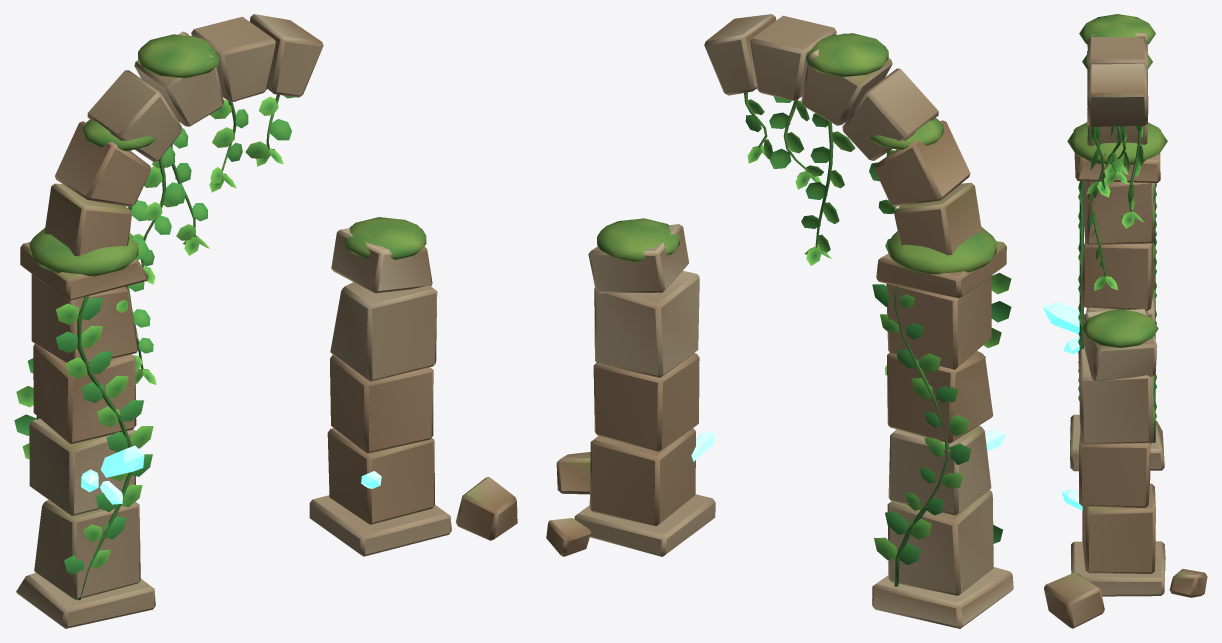
The model's file is ruin_arch.glb.
3 renders of one model, left to right at view 1: azimuth 30°, elevation 25°; view 2: azimuth 150°, elevation 25°; view 3: azimuth 270°, elevation 25°, orthographic. The views are drawn at different scales.
Parts seen in each view (by area): view 1: RuinArch; view 2: RuinArch; view 3: RuinArch.
Part boxes in pixels (box(x1,y1,x2,y2)): RuinArch: box(14, 14, 517, 628); RuinArch: box(546, 14, 1013, 628); RuinArch: box(1042, 14, 1207, 628).
Bounding box in the file's own units: 17.24 × 19.4 × 6.13.
